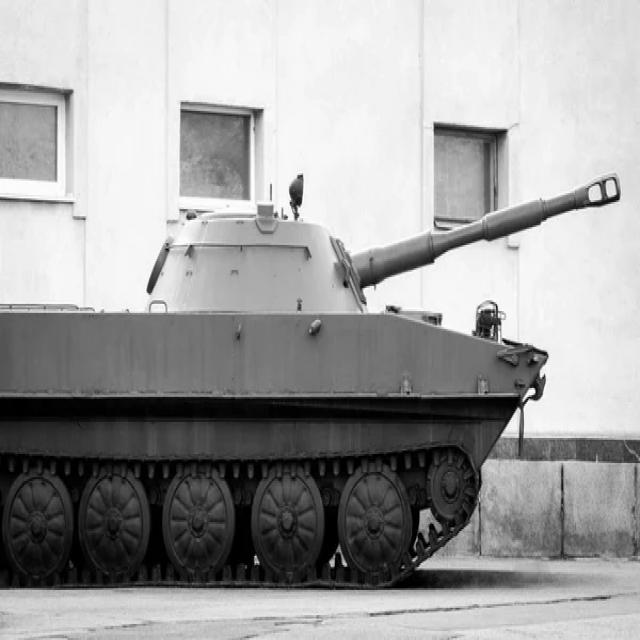Tank: (1, 166, 624, 596)
